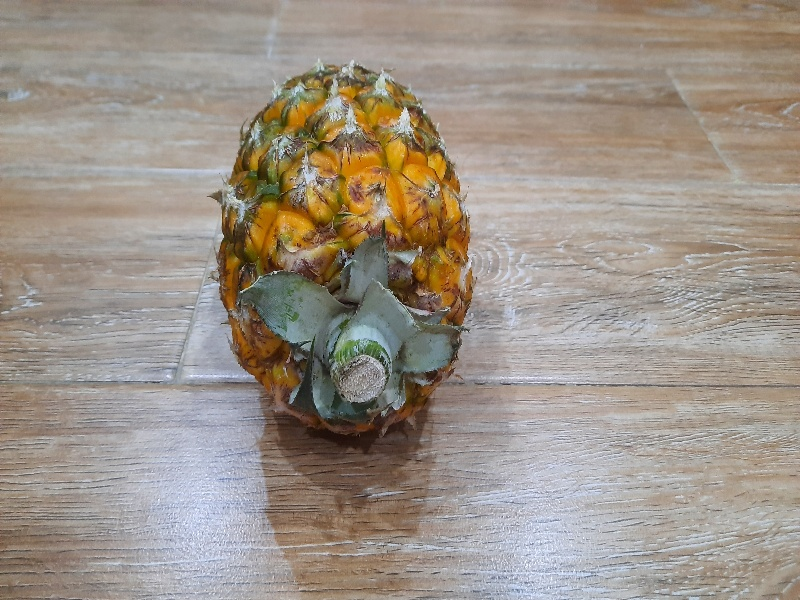fruit: (211, 54, 478, 441)
